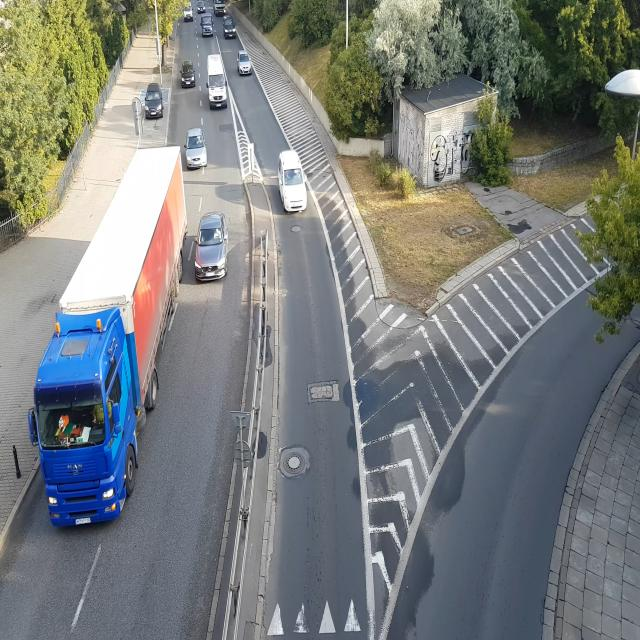car: (192, 210, 233, 286), (276, 150, 310, 213), (204, 57, 232, 109), (185, 127, 213, 167), (142, 77, 164, 126), (179, 58, 199, 93), (235, 49, 254, 78), (223, 16, 240, 43), (201, 12, 215, 39), (182, 2, 196, 26), (198, 1, 206, 13)
truck: (29, 140, 184, 543), (214, 0, 229, 15)
